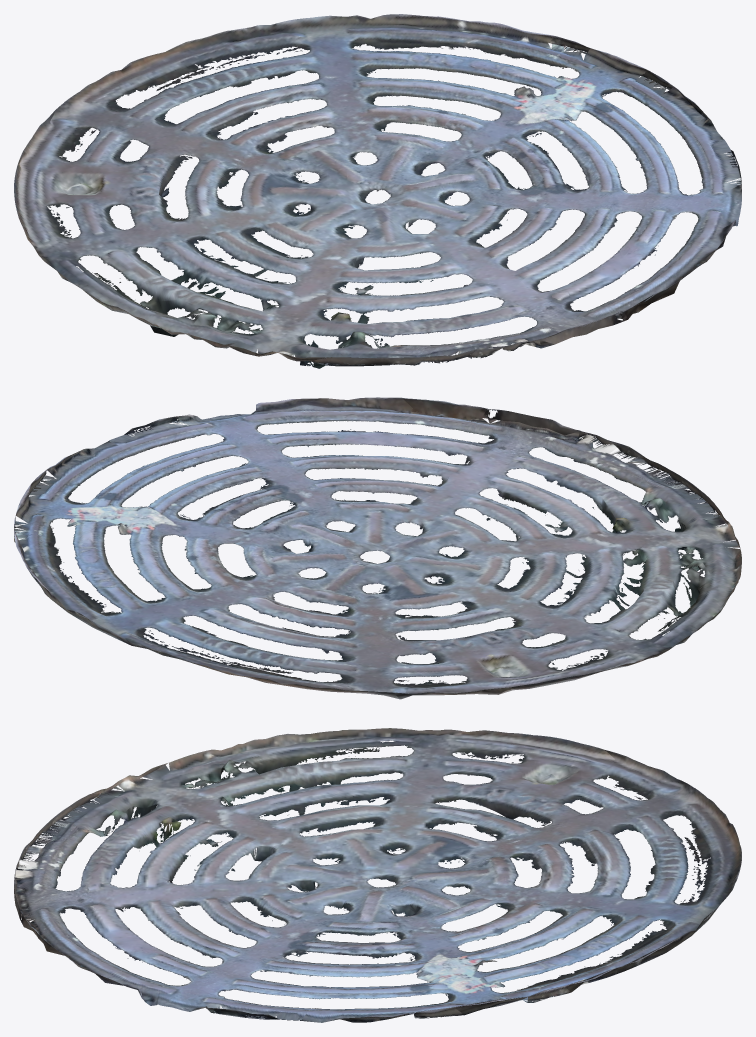
Rendered from alcantarilla.glb.
3 views of the same model, one above another, from view 1: azimuth 30°, elevation 25°; view 2: azimuth 150°, elevation 25°; view 3: azimuth 270°, elevation 25° (orthographic).
Visible parts, largest first — view 1: alcantarilla; view 2: alcantarilla; view 3: alcantarilla.
Boxes of the visible parts, box(x1,y1,x2,y2) form: alcantarilla: box(14, 14, 741, 368); alcantarilla: box(14, 397, 741, 699); alcantarilla: box(14, 728, 741, 1022).
Bounding box in the file's own units: 0.3771 × 0.0406 × 0.3771.
1 material, 1 textured.
